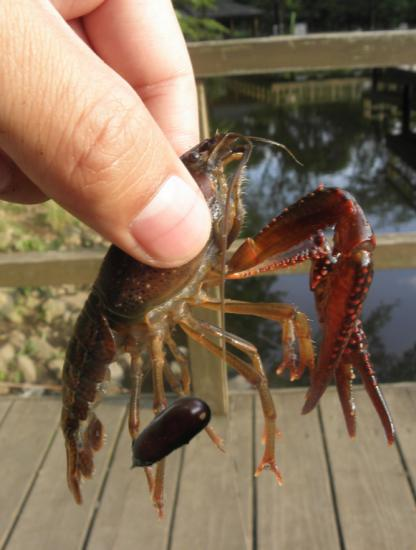Eggplant: (115, 382, 221, 488)
